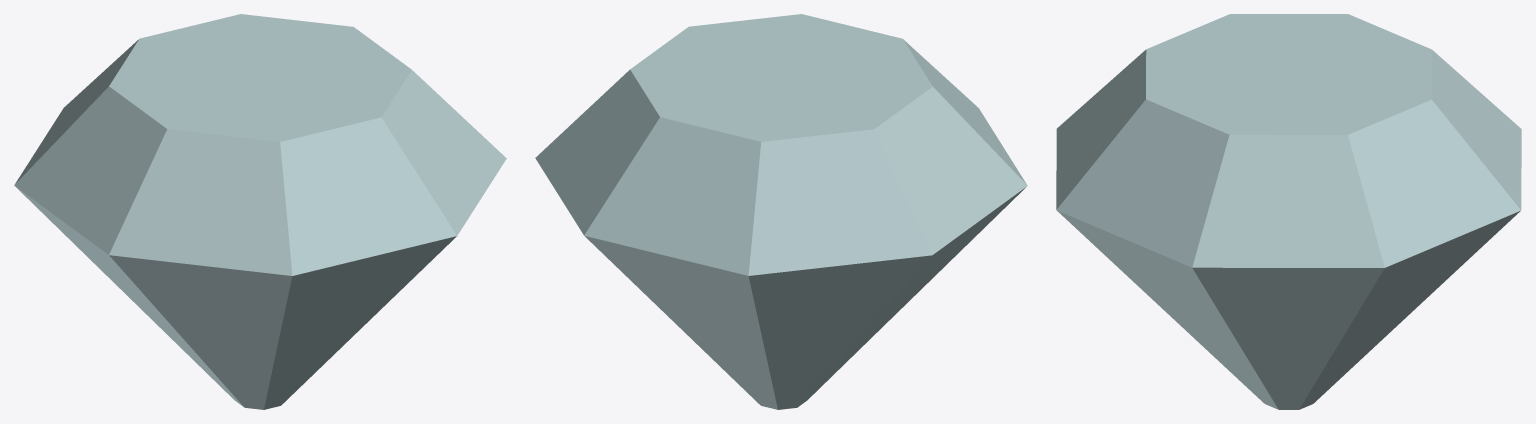
Rendered from stone_oldSingle_cut.fbx.
3 renders of one model, left to right at view 1: azimuth 30°, elevation 25°; view 2: azimuth 150°, elevation 25°; view 3: azimuth 270°, elevation 25°, orthographic.
Visible parts, largest first — view 1: stone_oldSingle_cut; view 2: stone_oldSingle_cut; view 3: stone_oldSingle_cut.
Part boxes in pixels (box(x1,y1,x2,y2)): stone_oldSingle_cut: box(14, 14, 506, 409); stone_oldSingle_cut: box(535, 14, 1027, 409); stone_oldSingle_cut: box(1056, 14, 1521, 409).
Size of the model in its own units: 1.11 by 0.8569 by 1.11.
